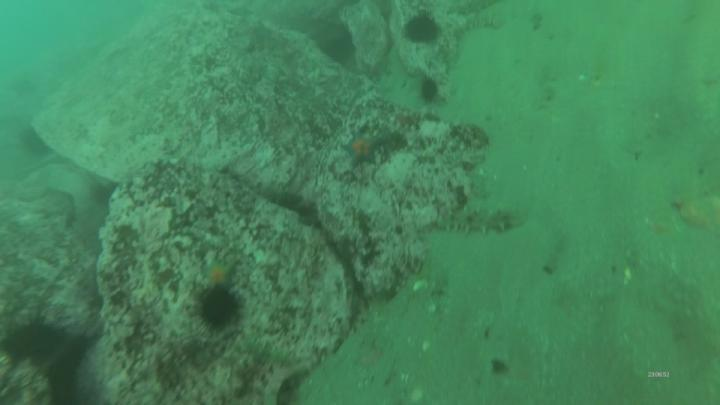echinus: (1, 311, 76, 370), (195, 287, 250, 333), (405, 15, 443, 46), (423, 74, 439, 105)
holothurian: (434, 202, 527, 235)
starfish: (342, 132, 384, 169), (202, 258, 240, 290)
